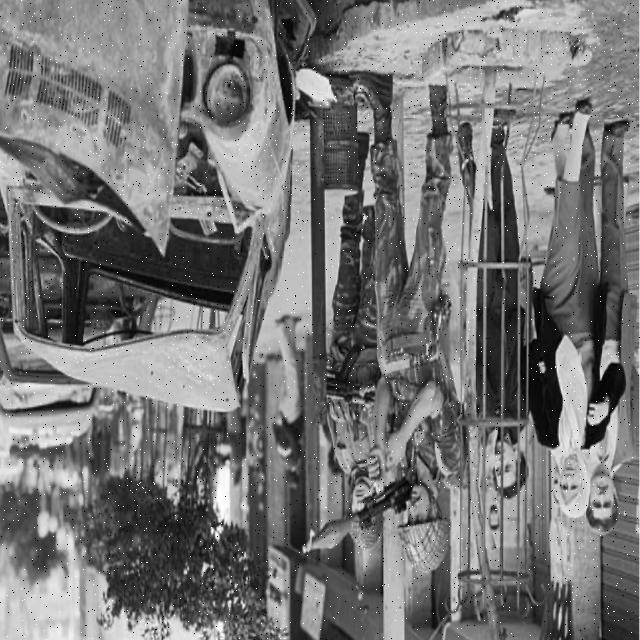bazooka: (301, 474, 418, 562)
